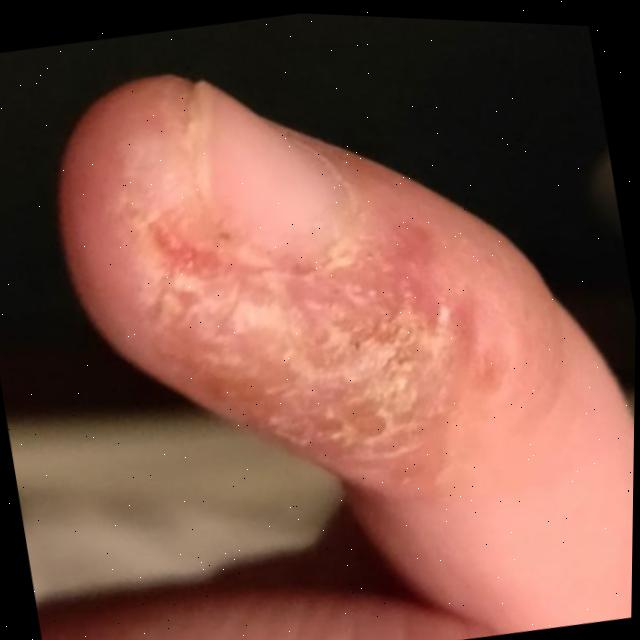Eczema: (145, 191, 405, 452)
